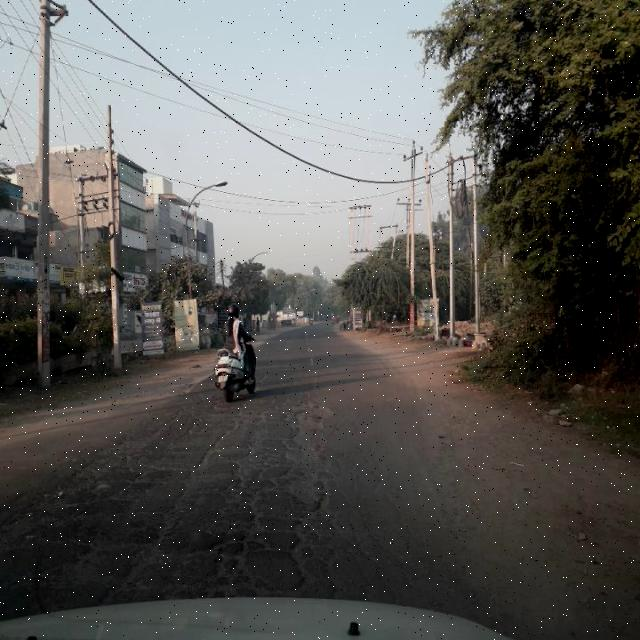D20: (2, 392, 356, 596)
D40: (288, 393, 342, 527)
